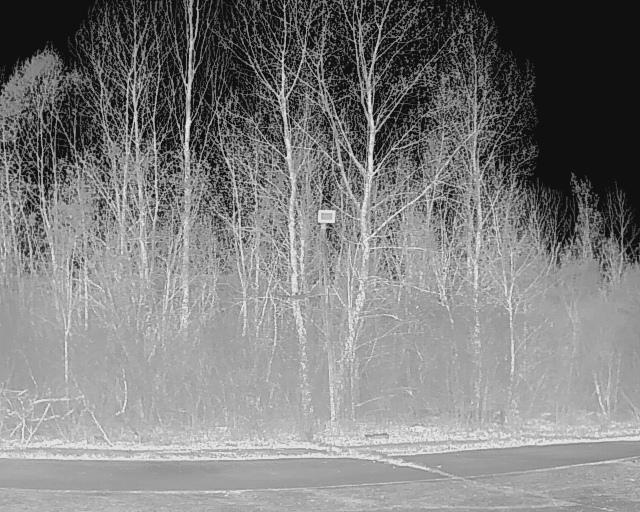drone: (260, 279, 332, 312)
